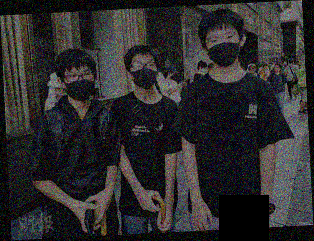mask_weared_incorrect: (55, 86, 67, 100)
with_mask: (206, 30, 243, 67), (65, 68, 96, 102), (132, 58, 159, 90), (170, 71, 178, 81), (201, 66, 208, 74)
without_mask: (249, 65, 258, 76), (274, 64, 282, 73)
